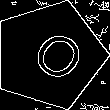O_SW: (15, 22, 83, 88)
